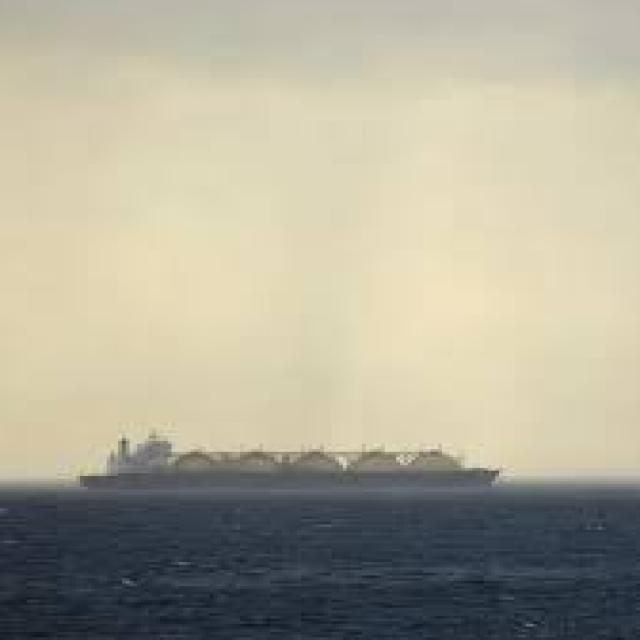cargoship: (78, 422, 498, 494)
